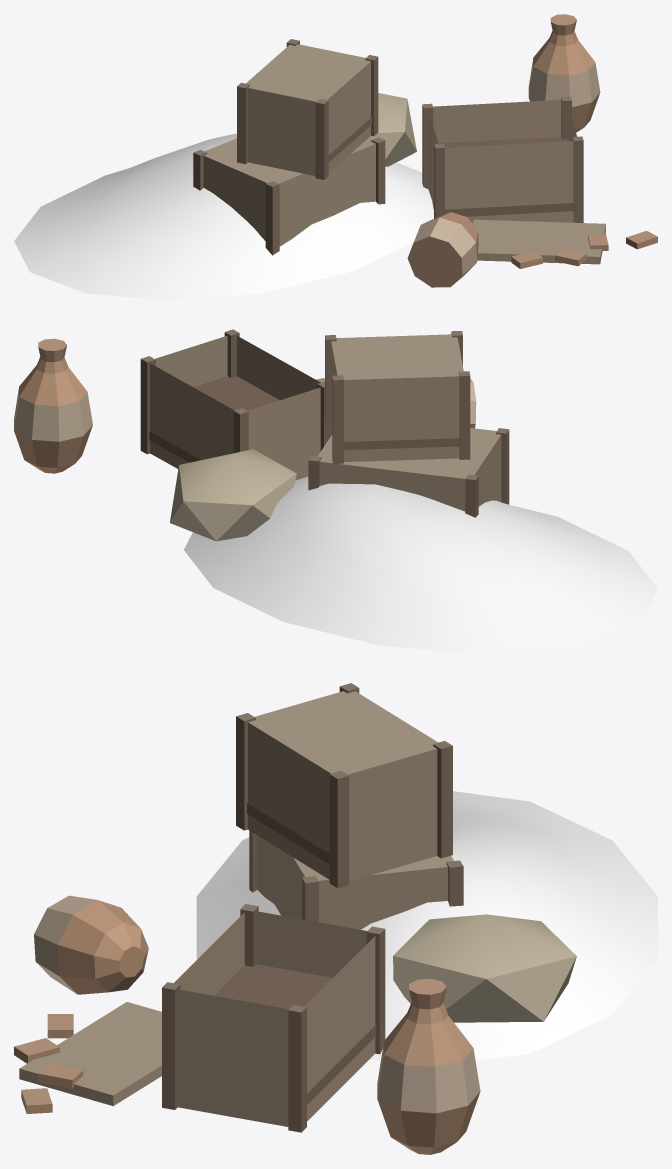
The model's file is caravana_cajas.glb.
3 views of the same model, one above another, from view 1: azimuth 30°, elevation 25°; view 2: azimuth 150°, elevation 25°; view 3: azimuth 270°, elevation 25° (orthographic). The views are drawn at different scales.
Visible parts, largest first — view 1: caravana_cajas, caravana_cajas_arena; view 2: caravana_cajas, caravana_cajas_arena; view 3: caravana_cajas, caravana_cajas_arena.
Boxes of the visible parts, bbox=[...] form: caravana_cajas: bbox=[193, 14, 657, 287]; caravana_cajas_arena: bbox=[14, 133, 433, 300]; caravana_cajas: bbox=[14, 329, 509, 541]; caravana_cajas_arena: bbox=[184, 476, 657, 654]; caravana_cajas: bbox=[14, 683, 576, 1154]; caravana_cajas_arena: bbox=[196, 791, 657, 1061].
Bounding box in the file's own units: 3.97 × 1.13 × 2.72.
